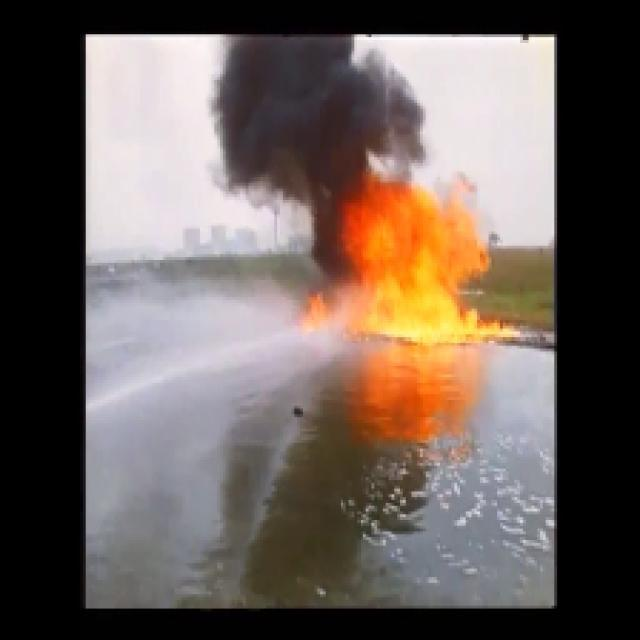Fire: (353, 202, 484, 344)
Smoke: (234, 48, 381, 184)
